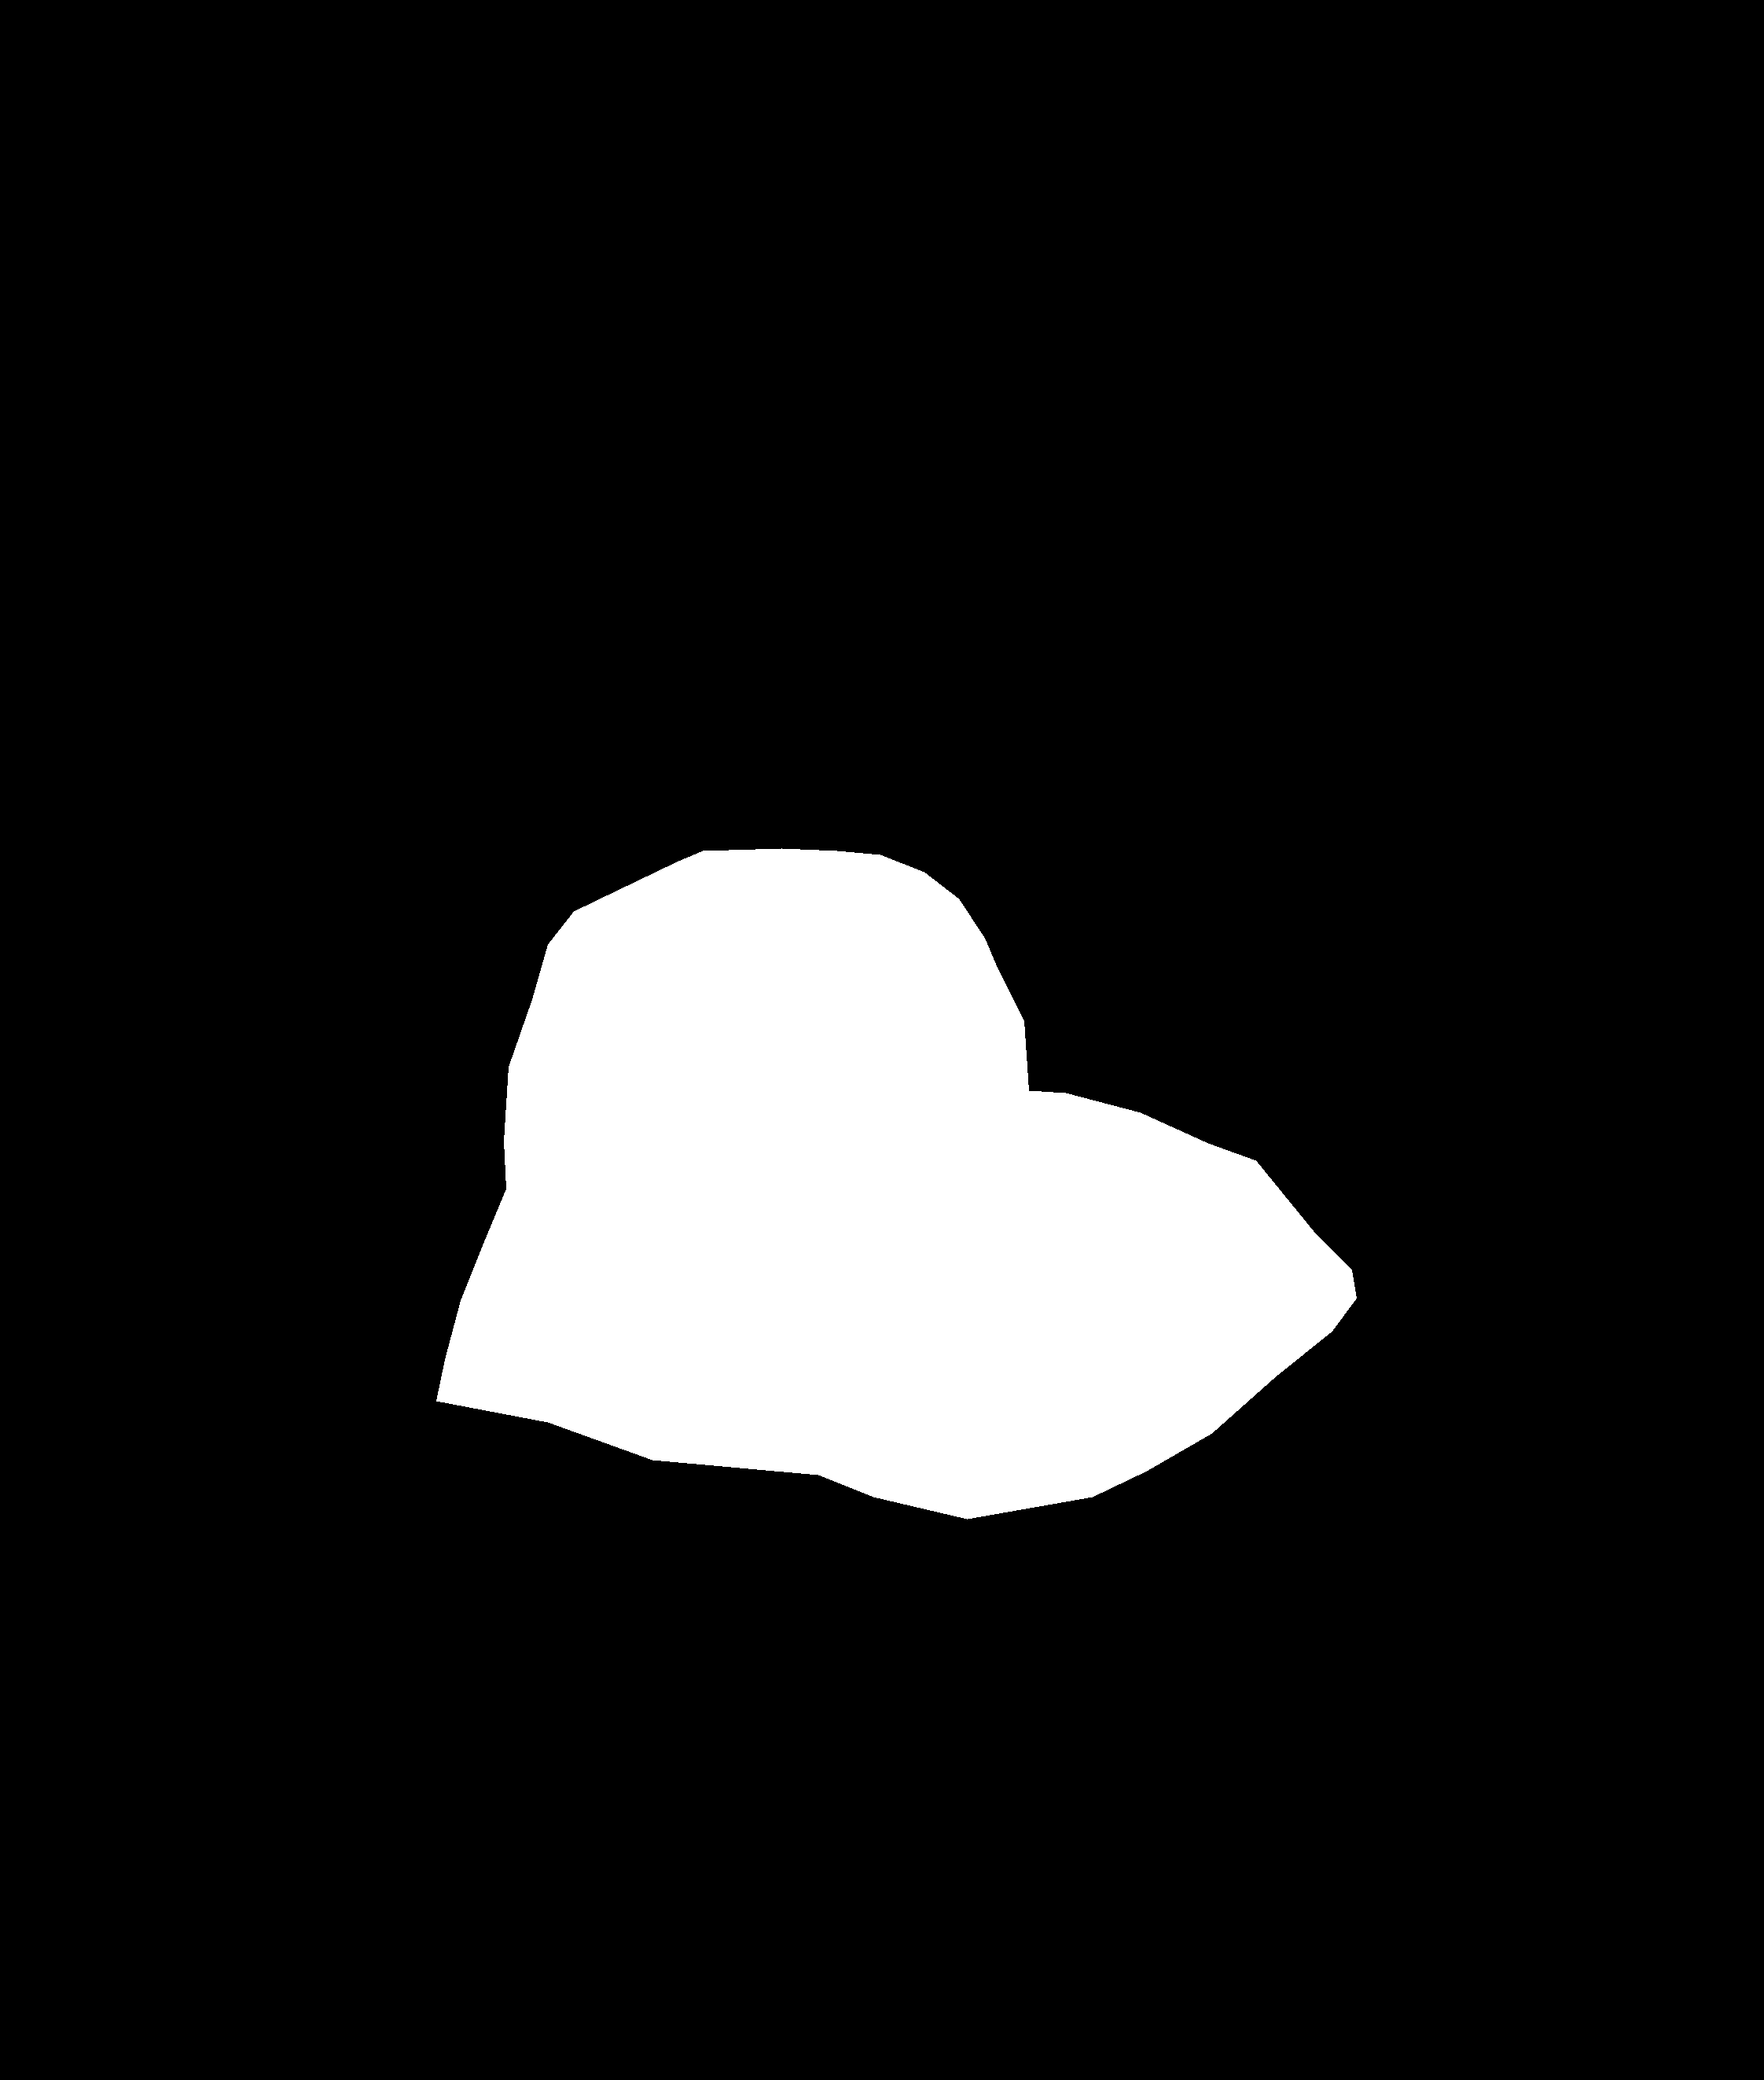heart: (436, 848, 1356, 1518)
left_lung: (73, 367, 619, 1441)
right_lung: (830, 343, 1694, 1373)
